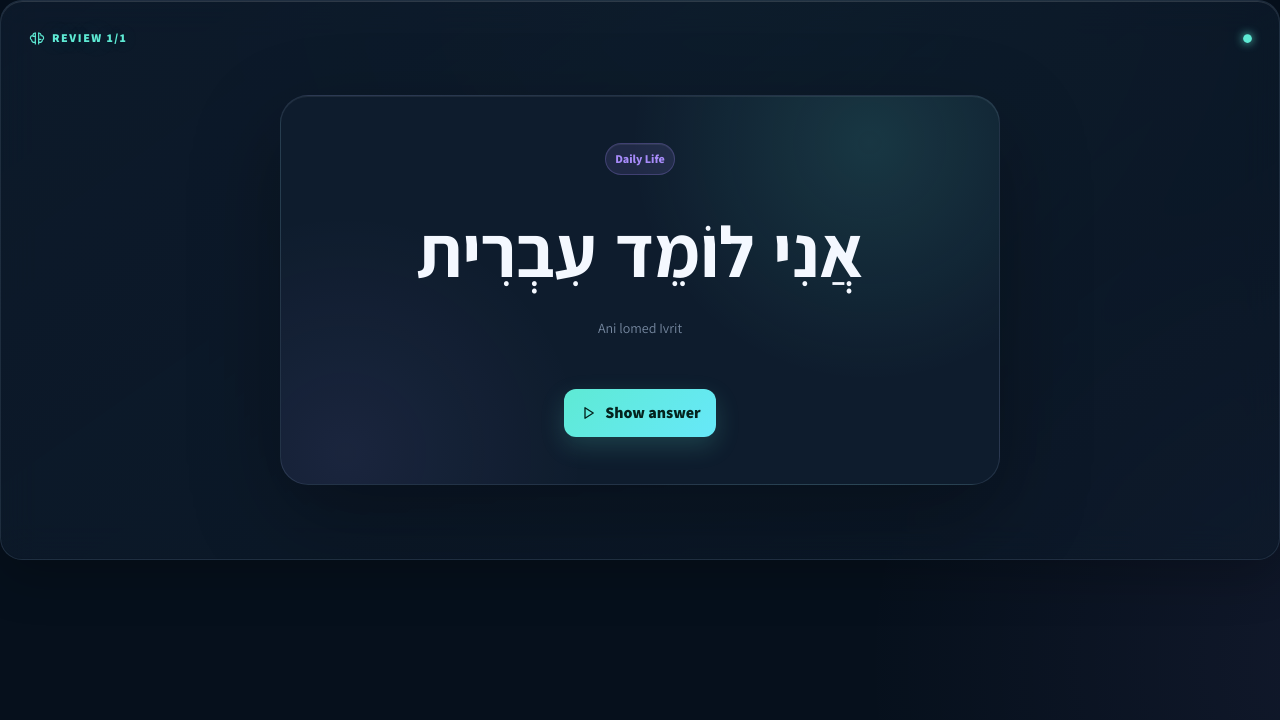
Scenario: ReviewCard › keeps the answer face and grading controls inaccessible until reveal
Check: the button "Again" is not shown
Click the button "Show answer": (640, 413) [564,389,716,437]
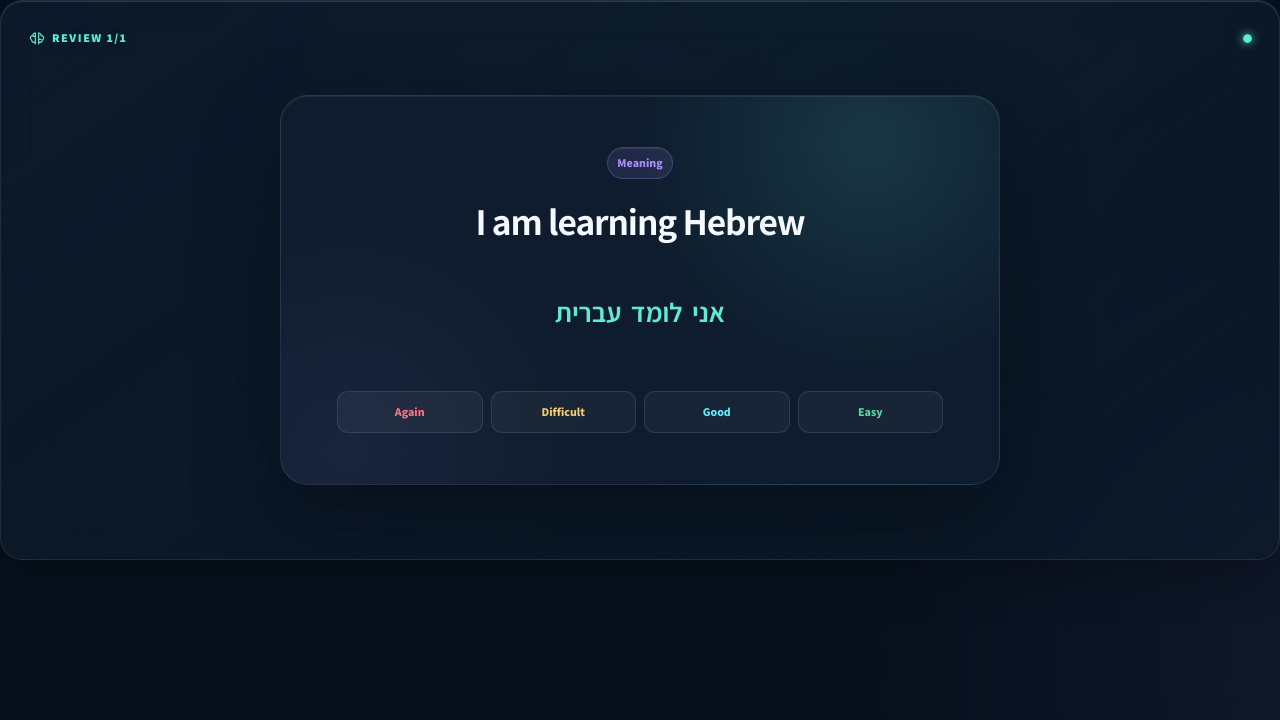
Check: the button "Show answer" is gone
Check: the button "Again" is enabled, box [337,391,482,433]
Check: the button "Difficult" is enabled, box [490,391,636,433]
